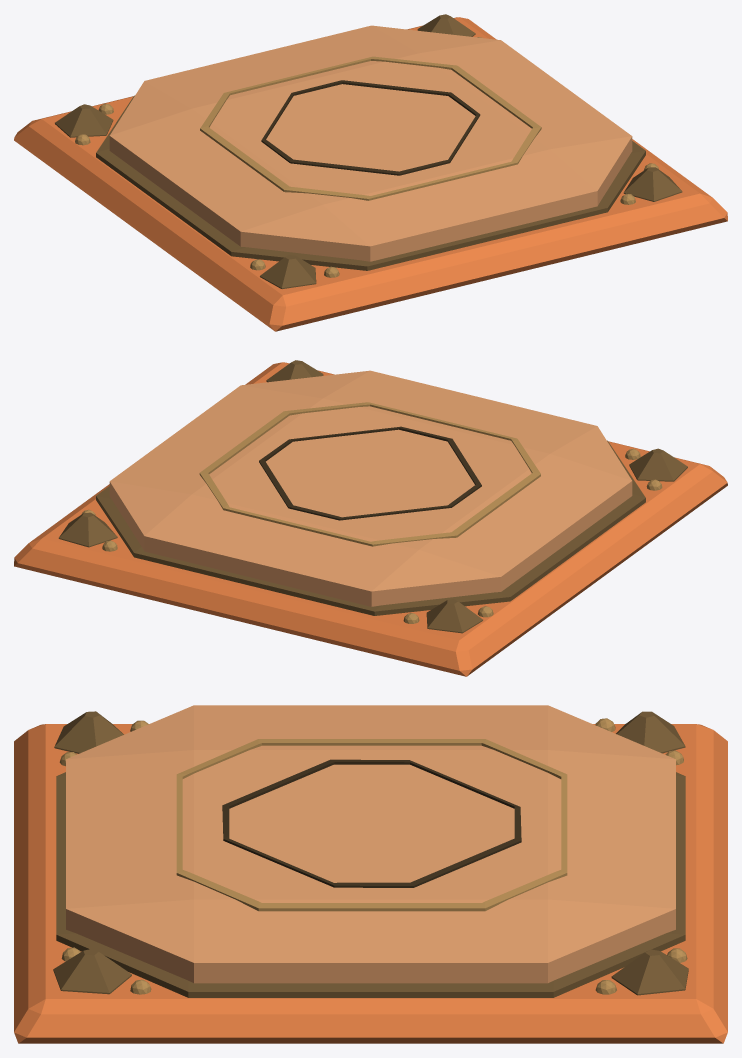
Rendered from Plate_3.fbx.
The picture shows the model from 3 angles, top to bottom: view 1: azimuth 30°, elevation 25°; view 2: azimuth 150°, elevation 25°; view 3: azimuth 270°, elevation 25°; orthographic projection. The views are drawn at different scales.
Parts seen in each view (by area): view 1: Cube.062, Cube.059; view 2: Cube.062, Cube.059; view 3: Cube.062, Cube.059.
Boxes of the visible parts, bbox=[...] form: Cube.062: bbox=[109, 25, 632, 261]; Cube.059: bbox=[14, 14, 727, 331]; Cube.062: bbox=[109, 370, 632, 606]; Cube.059: bbox=[14, 360, 727, 676]; Cube.062: bbox=[66, 705, 675, 983]; Cube.059: bbox=[14, 711, 727, 1043].
Bounding box in the file's own units: 196 × 22.02 × 196.
